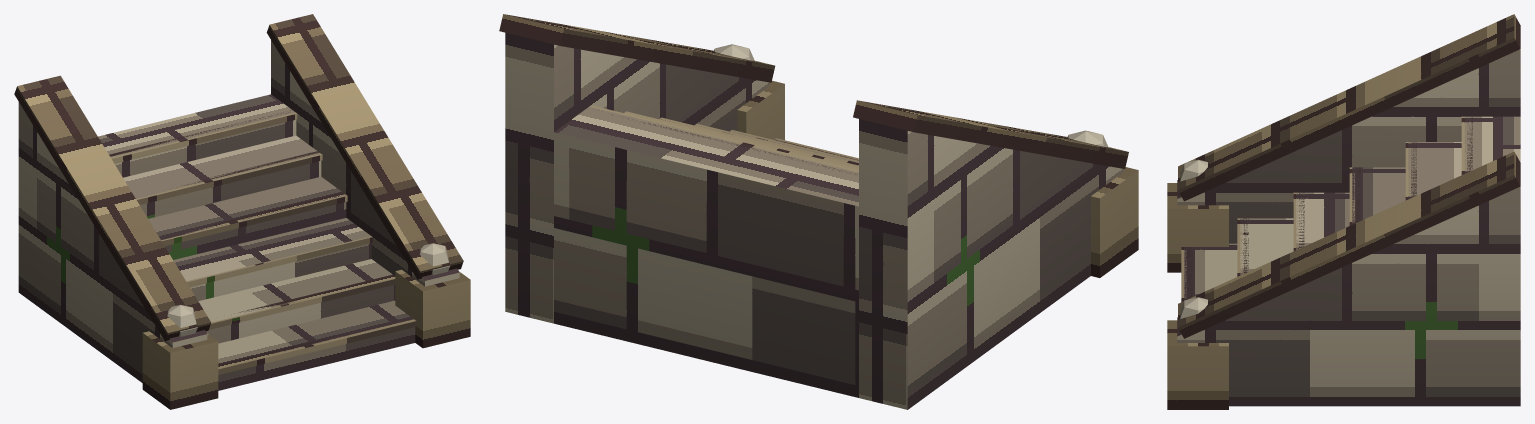
Rendered from scene_stair_3.glb.
3 views of the same model, side by side, from view 1: azimuth 30°, elevation 25°; view 2: azimuth 150°, elevation 25°; view 3: azimuth 270°, elevation 25° (orthographic). The views are drawn at different scales.
Parts seen in each view (by area): view 1: scene_stair_3; view 2: scene_stair_3; view 3: scene_stair_3.
Part boxes in pixels (<box>): scene_stair_3: <box>14,14,470,409</box>; scene_stair_3: <box>499,14,1138,409</box>; scene_stair_3: <box>1167,14,1520,409</box>.
Size of the model in its own units: 2.76 by 1.84 by 2.52.
2 materials, 1 textured.
